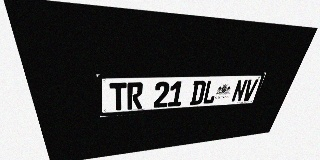1: (168, 81, 184, 107)
2: (153, 81, 170, 108)
D: (189, 80, 207, 105)
L: (202, 80, 219, 104)
N: (231, 79, 248, 102)
R: (127, 82, 143, 110)
T: (109, 82, 127, 111)
V: (241, 79, 259, 101)
